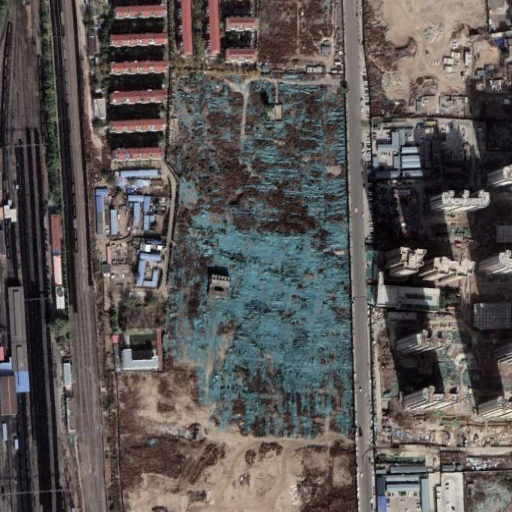cw: (164, 63, 351, 434)
